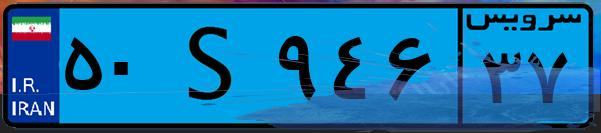0: (110, 28, 158, 98)
3: (475, 38, 525, 113)
4: (330, 28, 385, 110)
5: (57, 26, 110, 100)
6: (385, 28, 445, 110)
7: (525, 38, 570, 115)
9: (270, 28, 330, 110)
S: (158, 12, 270, 120)
